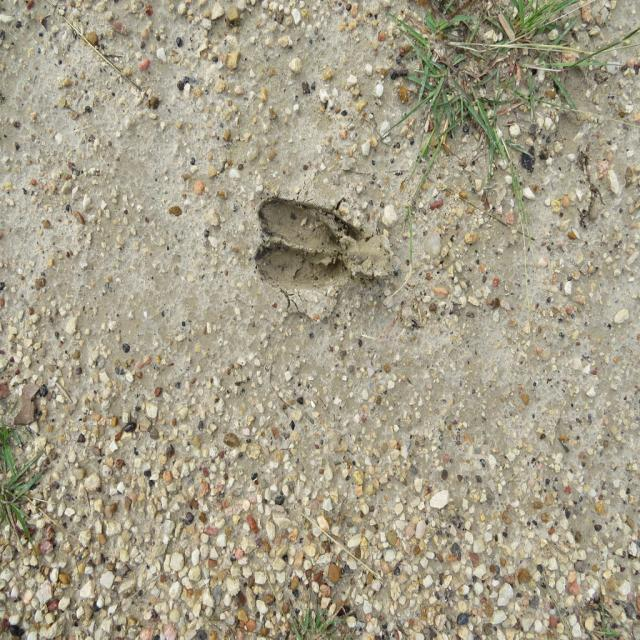deer: (256, 196, 357, 292)
